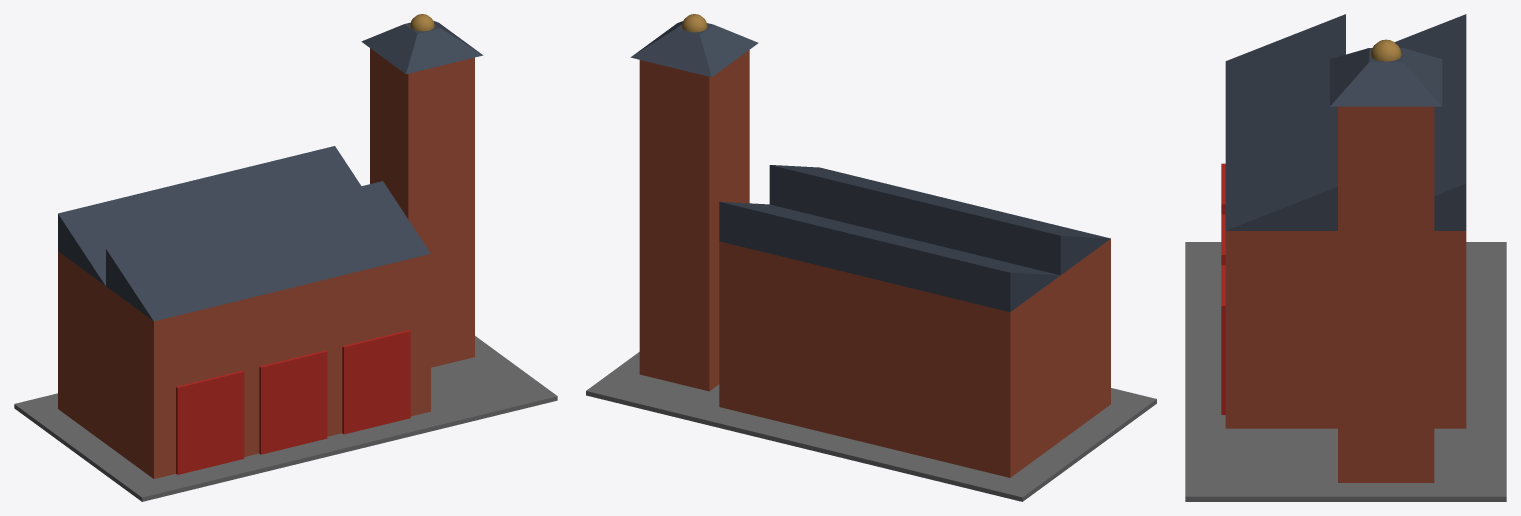
File: bld_special_fire_station_a05.glb
The picture shows the model from 3 angles, left to right: view 1: azimuth 30°, elevation 25°; view 2: azimuth 150°, elevation 25°; view 3: azimuth 270°, elevation 25°; orthographic projection. The views are drawn at different scales.
Parts seen in each view (by area): view 1: body; view 2: body; view 3: body.
Boxes of the visible parts, x1=… form: body: x1=14, y1=14, x2=557, y2=501; body: x1=586, y1=14, x2=1156, y2=501; body: x1=1185, y1=14, x2=1506, y2=501.
Size of what is drawn, in the model's own units: 15 by 11.74 by 8.
